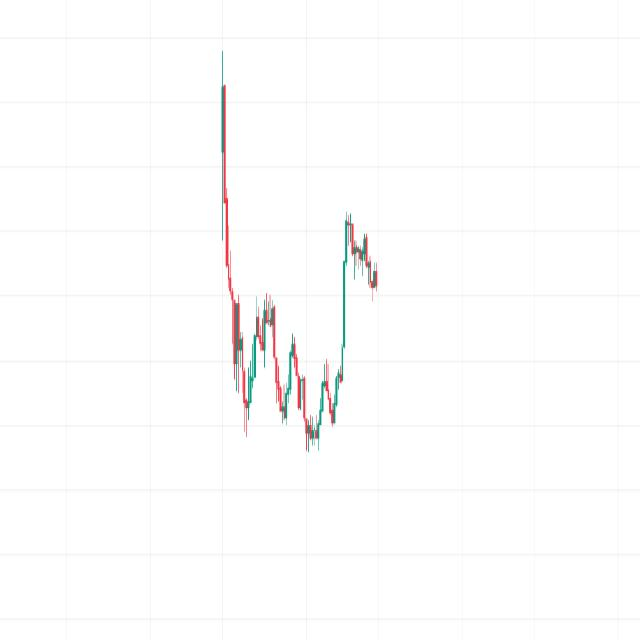Descending-Triangle: (220, 214, 421, 461)
